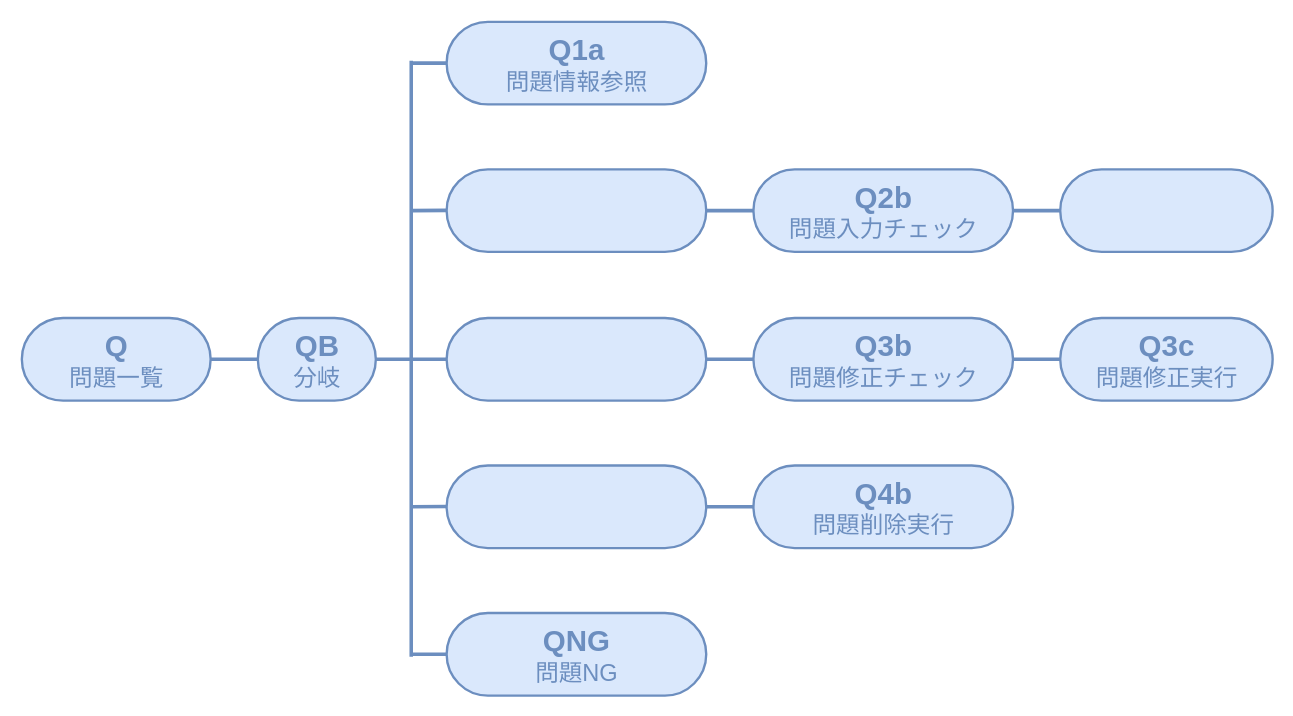
The diagram is 1293 pixels wide and 716 high, and some of its shapes have lost their labels. The box of each missing label's shape, as (x1, y1, x2, y2) in pixels:
Q2a 問題入力フォーム: (445, 168, 707, 253)
Q2c 問題入力実行: (1058, 168, 1273, 253)
Q3a 問題修正フォーム: (445, 316, 707, 401)
Q4a 問題削除確認: (445, 464, 707, 549)
